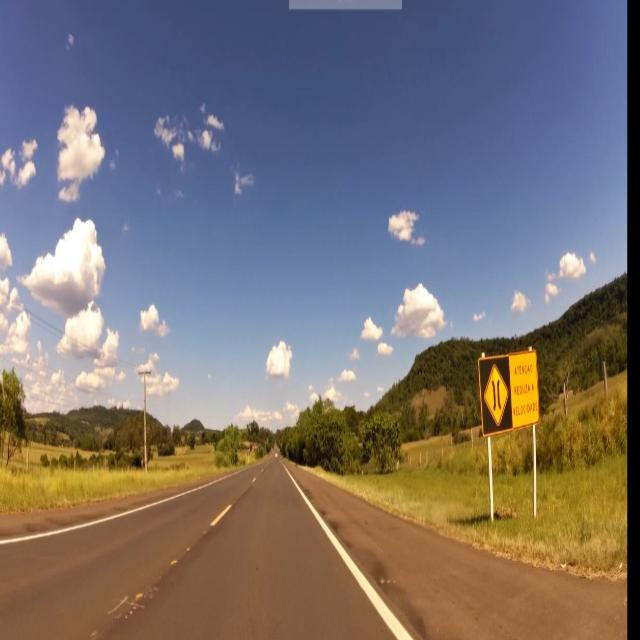A-22: (483, 364, 509, 431)
